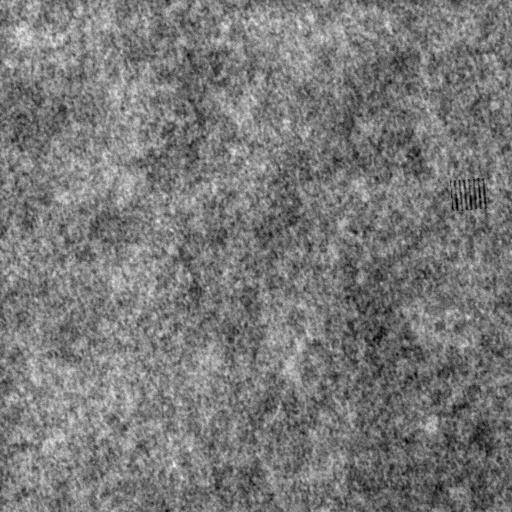DefectTypeB: (451, 177, 490, 211)
